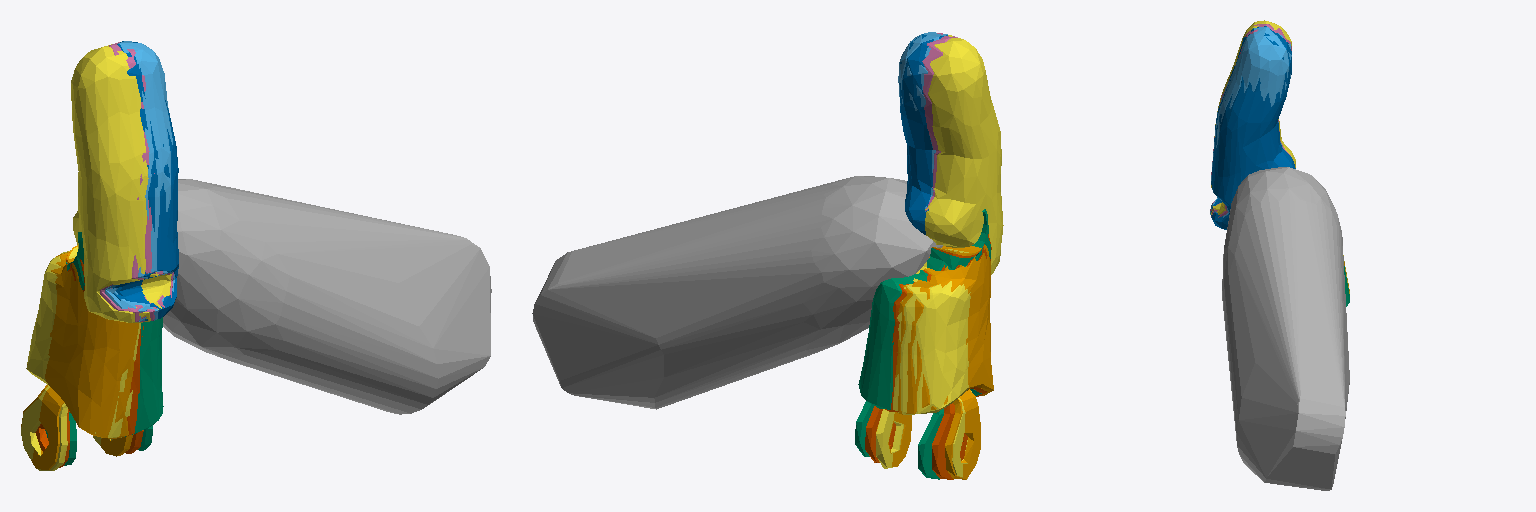
URDF robot description (ability_hand):
<!--
	NOTES:
	Units:
		Distance: m
		Angles: rad (only option)
		Mass: kg
		Inertia: kg*m^2
		
	Notes on intertia:
		-The inertias are calculated for uniform density with weights that may or may not be accurate.
		At the time of this writing only the thumb flexor weight is correct. The palm is a 'best guess' 
		approximation and the fingers are likely off by an order of magnitude
	
	Notes on finger q2:
		-The hand is a 4 bar linkage mechanism forming an 'X'. 4 bar linkages are not supported in the 
		urdf format. The motion of the second finger joint is fully defined by the motion of the first 
		finger joint. The calculation to find the index finger second joint angle given the first is provided
		in a matlab script elsewhere in this repository.
-->
<robot name="ability_hand">


	<link name="base">
		<visual name="wrist_mesh">
			<origin rpy = "0 0 0" xyz = "0 0 0"/>
			<geometry>
				<mesh filename="models/wristmesh.STL"/>
			</geometry>
		</visual>		
		<inertial>	<!-- the mass and inertia here are NOT correct -->
			<mass value = "0.200"/>
			<inertia ixx="978.26e-6" ixy = "87.34e-6" ixz = "322.99e-6" iyy = "1244.78e-6" iyz = "244.74e-6" izz = "456.22e-6" />
			<origin xyz = "22.41911e-3 -0.15798201e-3 -0.01319866e-3" rpy = "0 0 0"/>
		</inertial>
	</link>
	<joint name="wrist2thumb" type="fixed">
		<parent link="base"/>
		<child link="thumb_base"/>
		<origin xyz = "-24.0476665e-3 3.78124745e-3 32.32964923e-3" rpy = "3.14148426 -0.08848813 -3.14036612"/>
	</joint>
  
	<link name="thumb_base" >
		<inertial>
			<mass value = "0.200"/>
			<inertia ixx="978.26e-6" ixy = "87.34e-6" ixz = "322.99e-6" iyy = "1244.78e-6" iyz = "244.74e-6" izz = "456.22e-6" />
			<origin xyz = "22.41911e-3 -0.15798201e-3 -0.01319866e-3" rpy = "0 0 0"/>
		</inertial>
						
		<visual name="palm_mesh">
			<origin rpy = "0 0 0" xyz = "0 0 0"/>
			<geometry>
				<mesh filename="models/FB_palm_ref_MIR.STL"/>
			</geometry>
		</visual>		
	</link>
	

	
	<link name="index_L1" >
		<inertial>
			<mass value = "0.00635888"/>
			<inertia ixx="0.29766e-6" ixy = "-0.06447133e-6" ixz = "-0.00423315e-6" iyy = "3.6947967e-6" iyz = "0.00083028e-6" izz = "3.8176336e-6" />
			<origin xyz = "22.41911e-3 -0.15798201e-3 -0.01319866e-3" rpy = "0 0 0"/>
		</inertial>
		<visual name="index_mesh_1">
			<origin xyz = "38.472723e-3 3.257695e-3 0.000000" rpy = "0 0 0.084474"/>
			<geometry>
				<mesh filename="models/idx-F1.STL"/>
			</geometry>
		</visual>
	</link>
	<link name="index_L2" >
		<inertial>
			<mass value = "0.00645"/>
			<inertia ixx="0.82671e-6" ixy = "-1.08876e-6" ixz = "-0.00037e-6" iyy = "1.98028e-6" iyz = "0.00081e-6" izz = "2.64638e-6" />
			<origin rpy = "0 0 0" xyz = "13.36818e-3 -8.75392e-3 -0.02886e-3"/>
		</inertial>		
		<visual name="index_mesh_2">
			<origin rpy = "0 0 0" xyz = "9.1241e-3 0 0"/>
			<geometry>
				<mesh filename="models/idx-F2.STL"/>
			</geometry>
		</visual>
	</link>
	<joint name="index_q1" type="revolute">
		<parent link="thumb_base"/>
		<child link="index_L1"/>
		<origin xyz = " 0.00949 -0.01304 -0.06295 " rpy = " -1.1595426535897932 1.284473 -1.0510016535897932 " />
		<axis xyz="0 0 1"/>
		<limit lower = "0" upper = "2.0943951" effort = "0.20" velocity = "8.0677777442"/>		<!-- angles in rad, efforts in N-m, velocity in rad/s -->
		<dynamics damping = "0.001" friction = "0.001" />	<!-- Friction coefficient is not from quantitative measurement -->
	</joint>
	<joint name="index_q2" type="revolute">
		<parent link="index_L1"/>
		<child link="index_L2"/>
		<origin xyz = "38.472723e-3 3.257695e-3 0.000000e-3" rpy = "0 0 0.084474"/>
		<axis xyz="0 0 1"/>
		<limit lower = "0.0" upper = "2.6586" effort = "0.20" velocity = "8.0677777442"/>		<!-- angles in rad, efforts in N-m, velocity in rad/s -->
		<dynamics damping = "0.001" friction = "0.001" />	<!-- Friction coefficient is not from quantitative measurement -->
		<mimic joint = "index_q1" multiplier =  "1.05851325" offset = "0.72349796"/>
	</joint>
	<link name="index_anchor"/>
	<joint name="idx_anchor" type="fixed">
		<parent link = "index_L2"/>
		<child link = "index_anchor"/>
		<origin rpy = "0 0 0" xyz = "31.5541e-3  -10.44e-3 0.14e-3"/>
	</joint>
	

	<link name="middle_L1" >
		<inertial>
			<mass value = "0.00635888"/>
			<inertia ixx="0.29766e-6" ixy = "-0.06447133e-6" ixz = "-0.00423315e-6" iyy = "3.6947967e-6" iyz = "0.00083028e-6" izz = "3.8176336e-6" />
			<origin xyz = "22.41911e-3 -0.15798201e-3 -0.01319866e-3" rpy = "0 0 0"/>
		</inertial>
		
		<visual name="middle_mesh_1">
			<origin xyz = "38.472723e-3 3.257695e-3 0.000000" rpy = "0 0 0.084474"/>
			<geometry>
				<mesh filename="models/idx-F1.STL"/>
			</geometry>
		</visual>
		
	</link>
	<link name="middle_L2" >
		<inertial>
			<mass value = "0.00645"/>
			<inertia ixx="0.82671e-6" ixy = "-1.08876e-6" ixz = "-0.00037e-6" iyy = "1.98028e-6" iyz = "0.00081e-6" izz = "2.64638e-6" />
			<origin rpy = "0 0 0" xyz = "13.36818e-3 -8.75392e-3 -0.02886e-3"/>
		</inertial>
		<visual name="middle_mesh_2">
			<origin rpy = "0 0 0" xyz = "9.1241e-3 0 0"/>
			<geometry>
				<mesh filename="models/idx-F2.STL"/>
			</geometry>
		</visual>
	</link>
	<joint name="middle_q1" type="revolute">
		<parent link="thumb_base"/>
		<child link="middle_L1"/>
		<origin xyz = " -0.009653191 -0.015310271 -0.067853949 " rpy = " -1.2810616535897934 1.308458 -1.2453756535897933 " />
		<limit lower = "0" upper = "2.0943951" effort = "0.20" velocity = "8.0677777442"/>		<!-- angles in rad, efforts in N-m, velocity in rad/s -->
		<dynamics damping = "0.001" friction = "0.001" />	<!-- Friction coefficient is not from quantitative measurement -->
		<axis xyz="0 0 1"/>
	</joint>
	<joint name="middle_q2" type="revolute">
		<parent link="middle_L1"/>
		<child link="middle_L2"/>
		<origin xyz = "38.472723e-3 3.257695e-3 0.000000" rpy = "0 0 0.084474"/>
		<axis xyz="0 0 1"/>
		<limit lower = "0.0" upper = "2.6586" effort = "0.20" velocity = "8.0677777442"/>		<!-- angles in rad, efforts in N-m, velocity in rad/s -->
		<dynamics damping = "0.001" friction = "0.001" />	<!-- Friction coefficient is not from quantitative measurement -->
		<mimic joint = "middle_q1" multiplier =  "1.05851325" offset = "0.72349796"/>
	</joint>
	<link name="middle_anchor"/>
	<joint name="mid_anchor" type="fixed">
		<parent link = "middle_L2"/>
		<child link = "middle_anchor"/>
		<origin rpy = "0 0 0" xyz = "31.5541e-3  -10.44e-3 0.14e-3"/>
	</joint>





	<link name="ring_L1" >
		<inertial>
			<mass value = "0.00635888"/>
			<inertia ixx="0.29766e-6" ixy = "-0.06447133e-6" ixz = "-0.00423315e-6" iyy = "3.6947967e-6" iyz = "0.00083028e-6" izz = "3.8176336e-6" />
			<origin xyz = "22.41911e-3 -0.15798201e-3 -0.01319866e-3" rpy = "0 0 0"/>
		</inertial>
		
		<visual name="ring_mesh_1">
			<origin xyz = "38.472723e-3 3.257695e-3 0.000000" rpy = "0 0 0.084474"/>
			<geometry>
				<mesh filename="models/idx-F1.STL"/>
			</geometry>
		</visual>
	</link>
	<link name="ring_L2" >
		<inertial>
			<mass value = "0.00645"/>
			<inertia ixx="0.82671e-6" ixy = "-1.08876e-6" ixz = "-0.00037e-6" iyy = "1.98028e-6" iyz = "0.00081e-6" izz = "2.64638e-6" />
			<origin rpy = "0 0 0" xyz = "13.36818e-3 -8.75392e-3 -0.02886e-3"/>
		</inertial>
		<visual name="ring_mesh_2">
			<origin rpy = "0 0 0" xyz = "9.1241e-3 0 0"/>
			<geometry>
				<mesh filename="models/idx-F2.STL"/>
			</geometry>
		</visual>		
	</link>
	<joint name="ring_q1" type="revolute">
		<parent link="thumb_base"/>
		<child link="ring_L1"/>
		<origin xyz = " -0.02995426 -0.014212492 -0.067286105 " rpy = " -1.424994653589793 1.321452 -1.4657306535897934 " />
		<limit lower = "0" upper = "2.0943951" effort = "0.20" velocity = "8.0677777442"/>		<!-- angles in rad, efforts in N-m, velocity in rad/s -->
		<dynamics damping = "0.001" friction = "0.001" />	<!-- Friction coefficient is not from quantitative measurement -->
		<axis xyz="0 0 1"/>
	</joint>
	<joint name="ring_q2" type="revolute">
		<parent link="ring_L1"/>
		<child link="ring_L2"/>
		<origin xyz = "38.472723e-3 3.257695e-3 0.000000" rpy = "0 0 0.084474"/>
		<axis xyz="0 0 1"/>
		<limit lower = "0.0" upper = "2.6586" effort = "0.20" velocity = "8.0677777442"/>		<!-- angles in rad, efforts in N-m, velocity in rad/s -->
		<dynamics damping = "0.001" friction = "0.001" />	<!-- Friction coefficient is not from quantitative measurement -->
		<mimic joint = "ring_q1" multiplier =  "1.05851325" offset = "0.72349796"/>
	</joint>
	<link name="ring_anchor"/>
	<joint name="rng_anchor" type="fixed">
		<parent link = "ring_L2"/>
		<child link = "ring_anchor"/>
		<origin rpy = "0 0 0" xyz = "31.5541e-3  -10.44e-3 0.14e-3"/>
	</joint>







	<link name="pinky_L1" >
		<inertial>
			<mass value = "0.00635888"/>
			<inertia ixx="0.29766e-6" ixy = "-0.06447133e-6" ixz = "-0.00423315e-6" iyy = "3.6947967e-6" iyz = "0.00083028e-6" izz = "3.8176336e-6" />
			<origin xyz = "22.41911e-3 -0.15798201e-3 -0.01319866e-3" rpy = "0 0 0"/>
		</inertial>
		
		<visual name="pinky_mesh_1">
			<origin xyz = "38.472723e-3 3.257695e-3 0.000000" rpy = "0 0 0.084474"/>
			<geometry>
				<mesh filename="models/idx-F1.STL"/>
			</geometry>
		</visual>
		
	</link>
	<link name="pinky_L2" >
		<inertial>
			<mass value = "0.00645"/>
			<inertia ixx="0.82671e-6" ixy = "-1.08876e-6" ixz = "-0.00037e-6" iyy = "1.98028e-6" iyz = "0.00081e-6" izz = "2.64638e-6" />
			<origin rpy = "0 0 0" xyz = "13.36818e-3 -8.75392e-3 -0.02886e-3"/>
		</inertial>
		<visual name="pinky_mesh_2">
			<origin rpy = "0 0 0" xyz = "9.1241e-3 0 0"/>
			<geometry>
				<mesh filename="models/idx-F2.STL"/>
			</geometry>
		</visual>
		
	</link>
	<joint name="pinky_q1" type="revolute">
		<parent link="thumb_base"/>
		<child link="pinky_L1"/>
		<origin xyz = " -0.049521293 -0.011004583 -0.063029065 " rpy = " -1.3764826535897934 1.32222 -1.4832096535897932 " />
		<limit lower = "0" upper = "2.0943951" effort = "0.20" velocity = "8.0677777442"/>		<!-- angles in rad, efforts in N-m, velocity in rad/s -->
		<dynamics damping = "0.001" friction = "0.001" />	<!-- Friction coefficient is not from quantitative measurement -->
		<axis xyz="0 0 1"/>
	</joint>
	<joint name="pinky_q2" type="revolute">
		<parent link="pinky_L1"/>
		<child link="pinky_L2"/>
		<origin xyz = "38.472723e-3 3.257695e-3 0.000000" rpy = "0 0 0.084474"/>
		<limit lower = "0.0" upper = "2.6586" effort = "0.20" velocity = "8.0677777442"/>		<!-- angles in rad, efforts in N-m, velocity in rad/s -->
		<dynamics damping = "0.001" friction = "0.001" />	<!-- Friction coefficient is not from quantitative measurement -->
		<axis xyz="0 0 1"/>
		<mimic joint = "pinky_q1" multiplier =  "1.05851325" offset = "0.72349796"/>
	</joint>
	<link name="pinky_anchor"/>
	<joint name="pnky_anchor" type="fixed">
		<parent link = "pinky_L2"/>
		<child link = "pinky_anchor"/>
		<origin rpy = "0 0 0" xyz = "31.5541e-3  -10.44e-3 0.14e-3"/>
	</joint>






	<link name="thumb_L1" >
		<inertial>
			<mass value = "0.00268342"/>
			<inertia ixx="0.16931e-6" ixy = "-0.076214e-6" ixz = "-0.16959148e-6" iyy = "0.77769934e-6" iyz = "0.0156622e-6" izz = "0.7249122e-6" />
			<origin rpy = "0 0 0" xyz = "14.606e-3 -1.890854e-3 -3.1155356e-3"/>
		</inertial>
		
		<visual name="thumb_mesh_1">
			<origin xyz = " 0.0278283501 1.7436510745838653e-19 0.0147507 " rpy = " 1.832595714594045 -0.0 5.366520605522463e-18 " />
			<geometry>
				<mesh filename="models/thumb-F1-MIR.STL"/>
			</geometry>
		</visual>
		
	</link>
	<link name="thumb_L2" >
		<inertial>
			<mass value = "0.0055"/>
			<inertia ixx="4.4789082e-6" ixy = "4.4789082e-6" ixz = "-0.62144934e-6" iyy = "15.600996e-6" iyz = "-0.07466143e-6" izz = "17.908554e-6" />
			<origin rpy = "0 0 0" xyz = "30.020522e-3 5.59476e-3 -4.1504356e-3"/>
		</inertial>
		
		<visual name="thumb_mesh_2">
			<origin xyz = "65.18669e-3 23.34021e-3 3.93483e-3" rpy = "-3.141592 0 0.343830"/>
			<geometry>
				<mesh filename="models/thumb-F2.STL"/>
			</geometry>
		</visual>
		
	</link>
	<joint name="thumb_q1" type="revolute">
		<parent link="thumb_base"/>
		<child link="thumb_L1"/>
		<origin xyz = " 0.0 0.0 0.0 " rpy = " 3.141592653589793 -0.0 -0.18884434641020664 " />
		<axis xyz="0 0 1"/>
		<limit lower = "-2.0943951" upper = "0" effort = "0.20" velocity = "8.0677777442"/>		<!-- angles in rad, efforts in N-m, velocity in rad/s -->
		<dynamics damping = "0.001" friction = "0.001" />	<!-- Friction coefficient is not from quantitative measurement -->
	</joint>
	<joint name="thumb_q2" type="revolute">
		<parent link="thumb_L1"/>
		<child link="thumb_L2"/>
		<origin xyz = " 0.0278283501 1.7436510745838653e-19 0.0147507 " rpy = " 1.832595714594045 -0.0 5.366520605522463e-18 " />
		<axis xyz="0 0 1"/>
		<limit lower = "0" upper = "2.0943951" effort = "0.20" velocity = "8.0677777442"/>		<!-- angles in rad, efforts in N-m, velocity in rad/s -->
		<dynamics damping = "0.001" friction = "0.001" />	<!-- Friction coefficient is not from quantitative measurement -->		
	</joint>
		<link name="thumb_anchor"/>
	<joint name="thmb_anchor" type="fixed">
		<parent link = "thumb_L2"/>
		<child link = "thumb_anchor"/>
		<origin rpy = "0 0 0" xyz = "63.868144e-3  23.807059e-3 -3.629831e-3"/>
	</joint>
</robot>

--- What the picture shows (computed from the rendered views, not written in the file) ---
Views: 3 orthographic renders of the robot side by side, from view 1: azimuth 30°, elevation 25°; view 2: azimuth 150°, elevation 25°; view 3: azimuth 270°, elevation 25°.
Model ability_hand with 17 links and 16 joints (10 revolute, 6 fixed), rooted at base, posed every joint at zero.
Links seen in each view (by area): view 1: thumb_L2, index_L2, ring_L1, ring_L2, pinky_L1, pinky_L2, index_L1, middle_L2, middle_L1; view 2: thumb_L2, index_L2, pinky_L1, ring_L1, index_L1, pinky_L2, middle_L1, middle_L2, ring_L2; view 3: thumb_L2, pinky_L2, ring_L2.
Boxes of the visible links, x1,y1,x2,y2 form: thumb_L2: (163,179,491,414); index_L2: (71,44,171,322); ring_L1: (21,245,138,469); ring_L2: (105,41,174,321); pinky_L1: (21,247,140,470); pinky_L2: (113,41,178,320); index_L1: (45,232,163,465); middle_L2: (100,42,173,321); middle_L1: (35,252,143,467); thumb_L2: (532,176,942,409); index_L2: (925,35,1003,274); pinky_L1: (876,247,971,478); ring_L1: (876,245,993,479); index_L1: (855,209,990,479); pinky_L2: (899,34,947,234); middle_L1: (865,234,991,479); middle_L2: (922,33,957,210); ring_L2: (898,32,947,211); thumb_L2: (1222,167,1349,490); pinky_L2: (1211,26,1295,229); ring_L2: (1210,27,1291,217).
Size in the robot's own frame: 82.52 by 29.07 by 78.77 metres.
Meshes: 6 distinct files referenced, 9 mesh visuals loaded (3 binary STL); not drawn: 3 (reference not matched to a file when rendering).